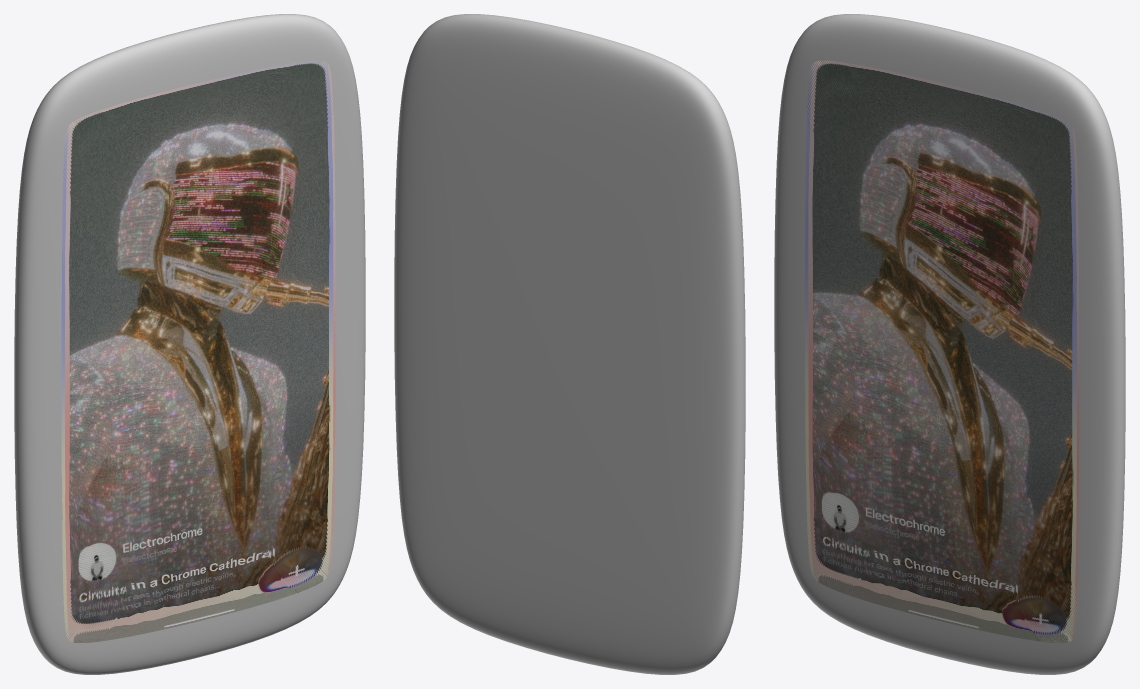
The model's file is cbbd.glb.
3 renders of one model, left to right at view 1: azimuth 30°, elevation 25°; view 2: azimuth 150°, elevation 25°; view 3: azimuth 330°, elevation 25°, orthographic.
Parts seen in each view (by area): view 1: Plane.005; view 2: Plane.005; view 3: Plane.005.
Boxes of the visible parts, bbox=[...] form: Plane.005: bbox=[14, 14, 365, 674]; Plane.005: bbox=[394, 14, 745, 674]; Plane.005: bbox=[774, 14, 1125, 674].
Size of the model in its own units: 0.4939 by 0.8522 by 0.0443.
Materials: 2 (1 with a texture image).
